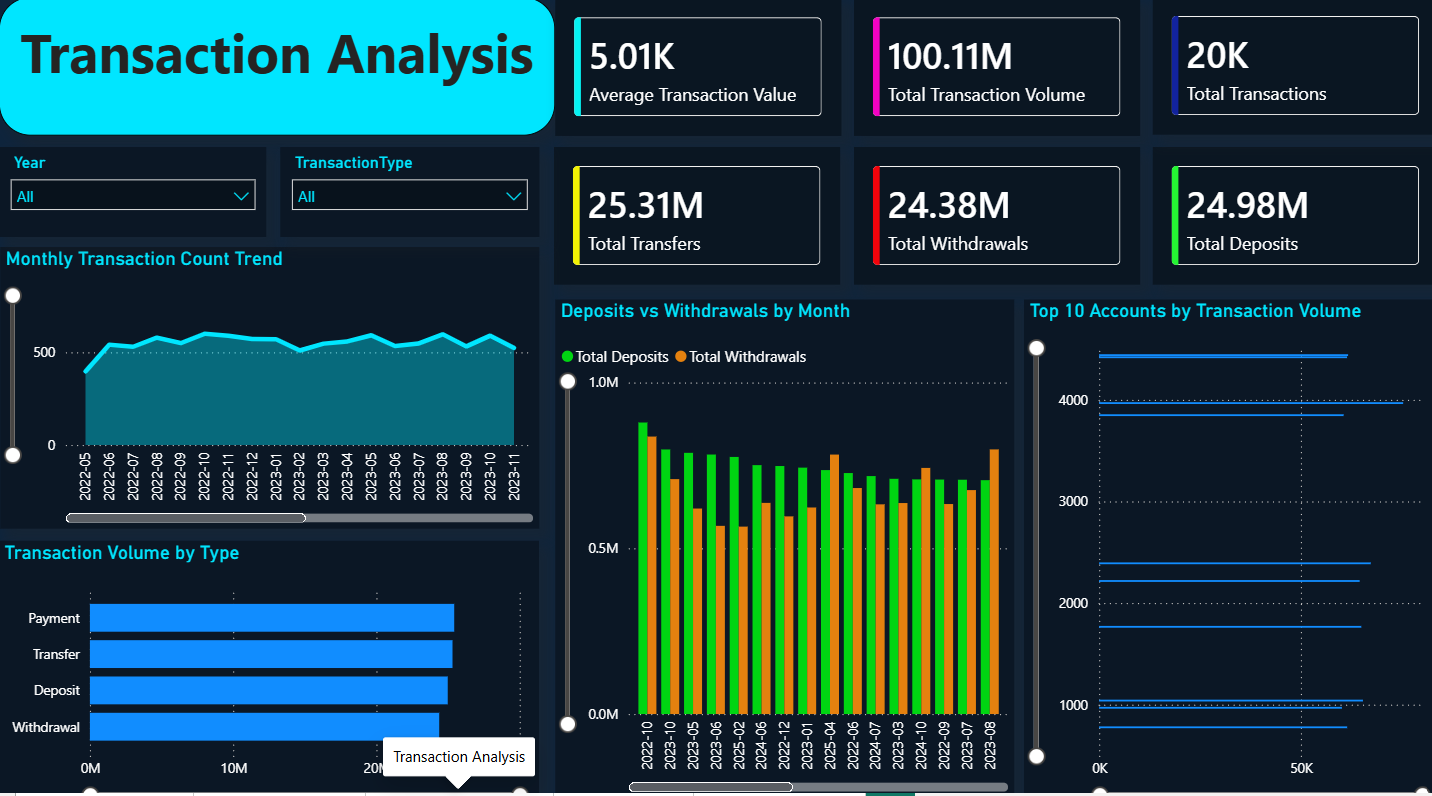

The page's visual inventory and layout, read from the dashboard file:
{"tool":"powerbi","page":{"name":"Transaction Analysis","canvas":[1280,720],"ordinal":2},"visuals":[{"type":"textbox","box":[0,0,494.4,123.3],"z":0},{"type":"cardVisual","fields":{"Data":["Measure.Average Transaction Value"]},"box":[494.4,1.1,254.4,122.2],"z":1},{"type":"cardVisual","fields":{"Data":["Measure.Total Transaction Volume"]},"box":[760,1.1,254.4,122.2],"z":2},{"type":"cardVisual","fields":{"Data":["Measure.Total Transfers"]},"box":[493.3,133.3,254.4,122.2],"z":3},{"type":"cardVisual","fields":{"Data":["Measure.Total Withdrawals"]},"box":[760,133.3,254.4,122.2],"z":4},{"type":"cardVisual","fields":{"Data":["Measure.Total Deposits"]},"box":[1025.6,133.3,254.4,122.2],"z":5},{"type":"cardVisual","fields":{"Data":["Measure.Total Transactions"]},"box":[1025.6,0,254.4,122.2],"z":6},{"type":"lineChart","title":"Monthly Transaction Count Trend","fields":{"Y":["Measure.Total Transactions"],"Category":["Calendar.YearMonth"]},"box":[1.1,222.2,478.9,250],"z":7},{"type":"clusteredBarChart","title":"Transaction Volume by Type","fields":{"Category":["Banking_Analytics_Transactions_Updated.TransactionType"],"Y":["Measure.Total Transaction Volume"]},"box":[0,483.3,480,236.7],"z":8},{"type":"clusteredColumnChart","title":"Deposits vs Withdrawals by Month","fields":{"Category":["Calendar.YearMonth"],"Y":["Measure.Total Deposits","Measure.Total Withdrawals"]},"box":[494.4,268.9,407.8,442.2],"z":9},{"type":"clusteredBarChart","title":"Top 10 Accounts by Transaction Volume","fields":{"Category":["Banking_Analytics_Transactions_Updated.AccountID"],"Y":["Measure.Total Transaction Volume"]},"box":[911.1,268.9,368.9,451.1],"z":10},{"type":"slicer","fields":{"Values":["Calendar.Year"]},"box":[0,133.3,237.8,80],"z":11},{"type":"slicer","fields":{"Values":["Banking_Analytics_Transactions_Updated.TransactionType"]},"box":[250,133.3,230,80],"z":12}]}

Visuals, with their boxes in screenshot pixels (x1, y1, x2, y2), scaled from the page's 1280x720 canvas onto the 1432x796 screenshot:
textbox: [0,0,553,136]
cardVisual - Measure.Average Transaction Value: [553,1,838,136]
cardVisual - Measure.Total Transaction Volume: [850,1,1135,136]
cardVisual - Measure.Total Transfers: [552,147,836,282]
cardVisual - Measure.Total Withdrawals: [850,147,1135,282]
cardVisual - Measure.Total Deposits: [1147,147,1431,282]
cardVisual - Measure.Total Transactions: [1147,0,1431,135]
"Monthly Transaction Count Trend" lineChart: [1,246,537,522]
"Transaction Volume by Type" clusteredBarChart: [0,534,537,795]
"Deposits vs Withdrawals by Month" clusteredColumnChart: [553,297,1009,786]
"Top 10 Accounts by Transaction Volume" clusteredBarChart: [1019,297,1431,795]
slicer - Calendar.Year: [0,147,266,236]
slicer - Banking_Analytics_Transactions_Updated.TransactionType: [280,147,537,236]
